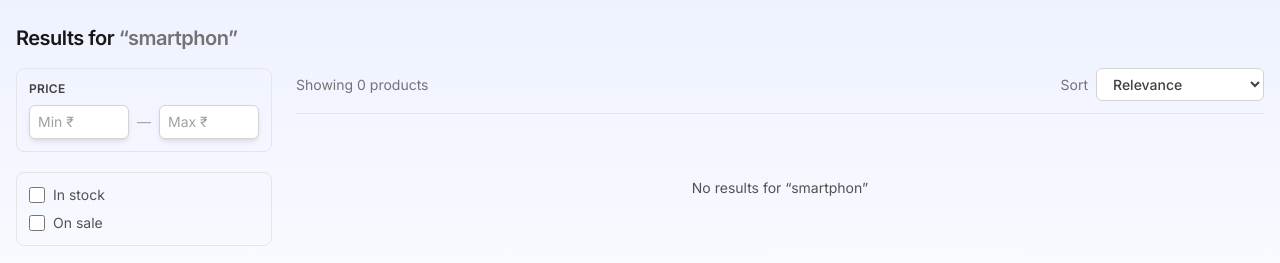
Test: SearchContent › renders the filter-empty state (distinct copy) when a filter, not the keyword, is the differentiator
Check: the text "No results for “smartphon”" is shown, box [692, 179, 868, 196]
Click the checkbox labelled "In stock". click: (37,195)
box: [29, 187, 45, 203]
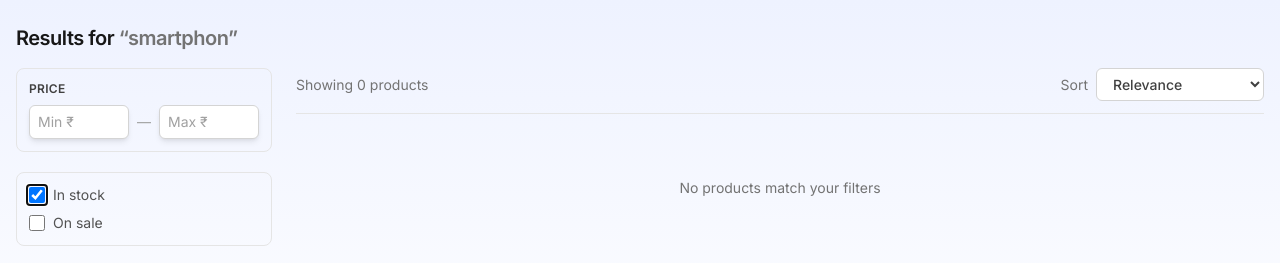
Check: the text "No products match your filters" is shown, box [679, 179, 881, 196]
Check: the text "No results for “smartphon”" is gone
